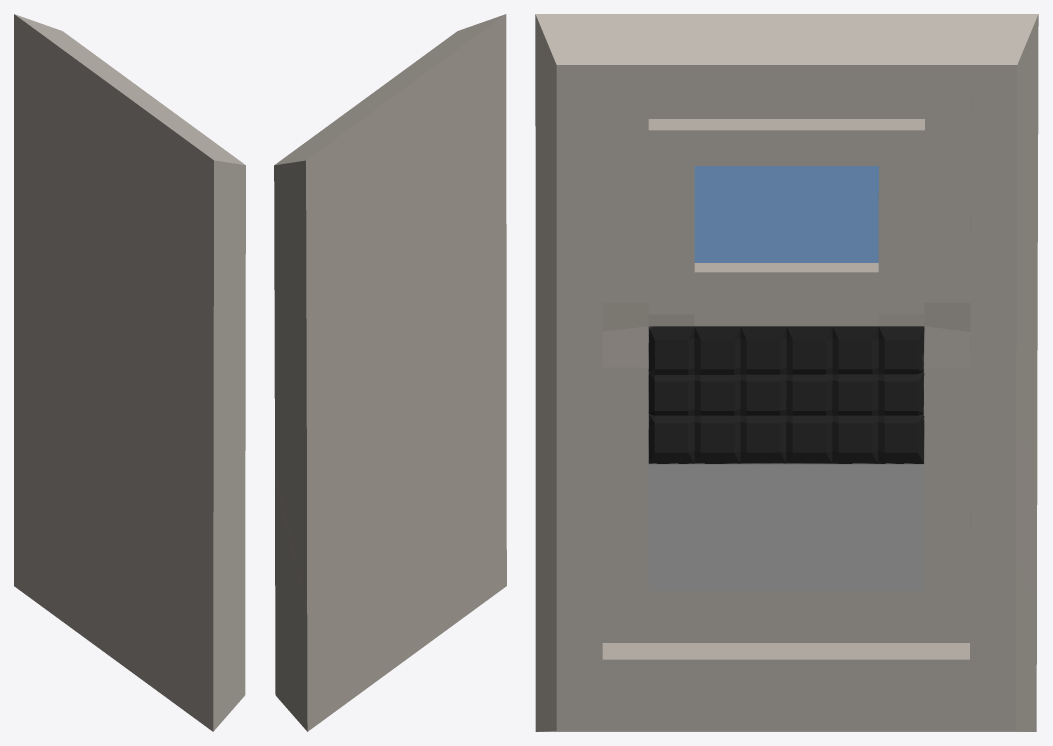
File: elevbuttonstextured.fbx
The picture shows the model from 3 angles, left to right: view 1: azimuth 30°, elevation 25°; view 2: azimuth 150°, elevation 25°; view 3: azimuth 270°, elevation 25°; orthographic projection. The views are drawn at different scales.
Parts seen in each view (by area): view 1: Cube.002; view 2: Cube.002; view 3: Cube.002.
Boxes of the visible parts, left/top/right/bottom form: Cube.002: left=14, top=14, right=245, bottom=731; Cube.002: left=274, top=14, right=506, bottom=731; Cube.002: left=535, top=14, right=1038, bottom=731.
Bounding box in the file's own units: 7.65 × 92.23 × 58.53.
Materials: 1 (1 with a texture image).
